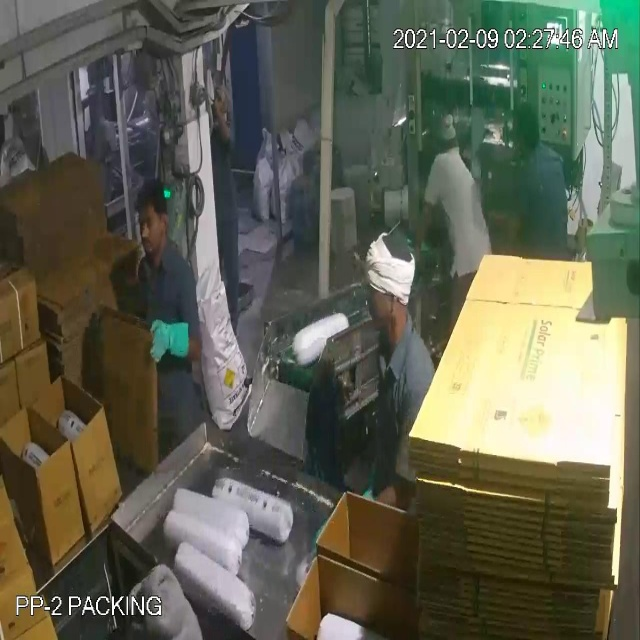Guantes: (146, 311, 196, 373)
Sin_guantes: (210, 89, 232, 149), (415, 195, 435, 260)
